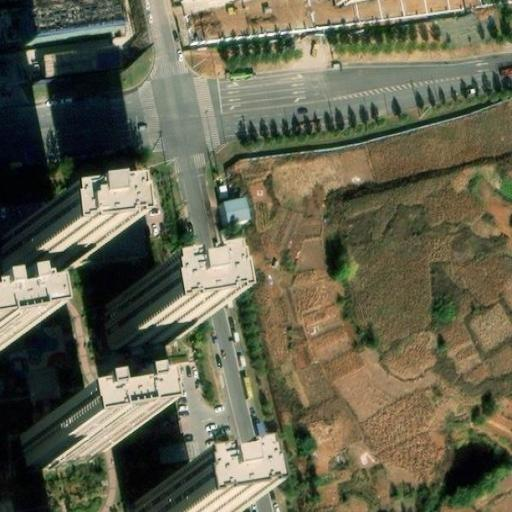building: (21, 0, 117, 49), (8, 414, 96, 463), (89, 301, 169, 353), (133, 483, 206, 512), (218, 195, 252, 225)
